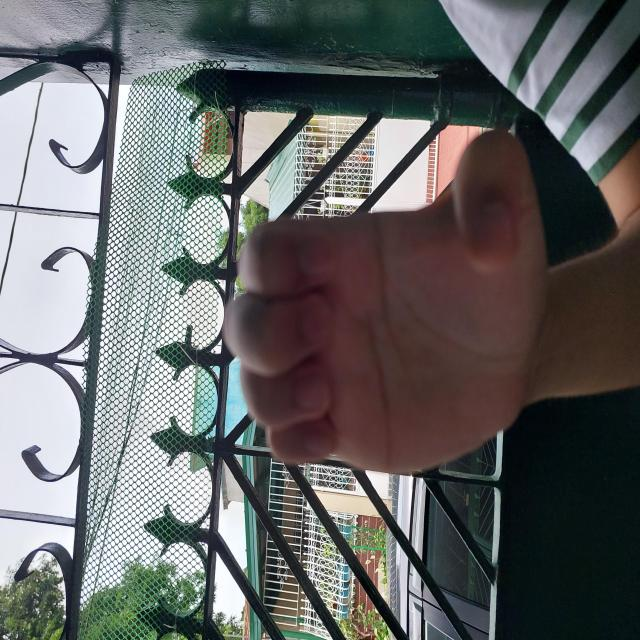E: (162, 221, 514, 555)
